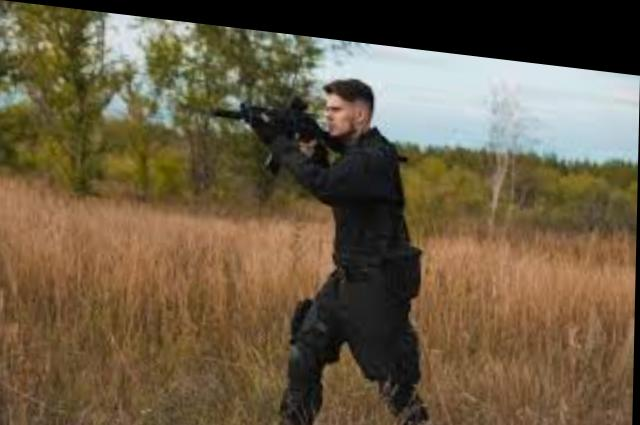other: (306, 64, 425, 364)
